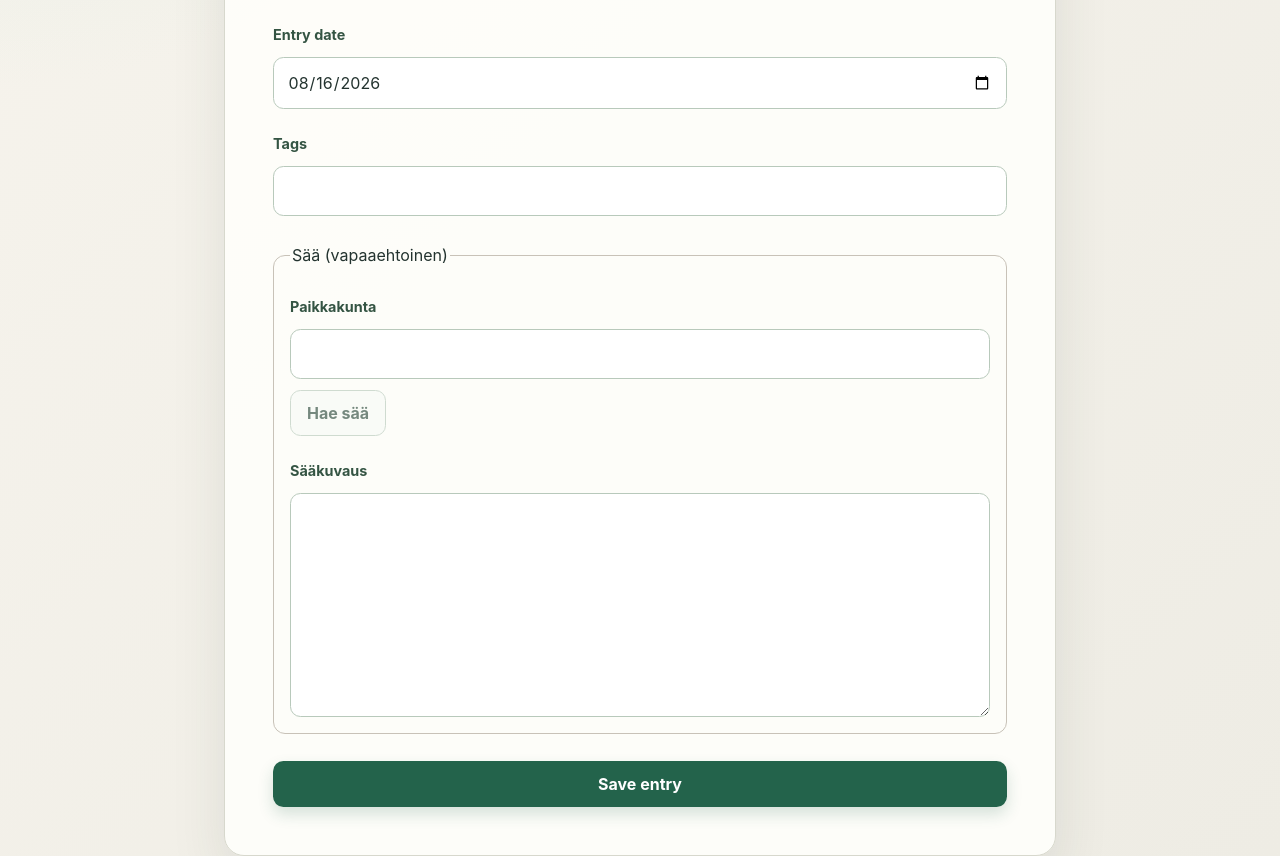
Scenario: NewEntryForm › associates a content validation error with the content field
This screenshot has width=1280, height=856.
(page scrolled)
Click the button "Save entry".
click(640, 784)  # box [273, 761, 1007, 807]
(page scrolled)
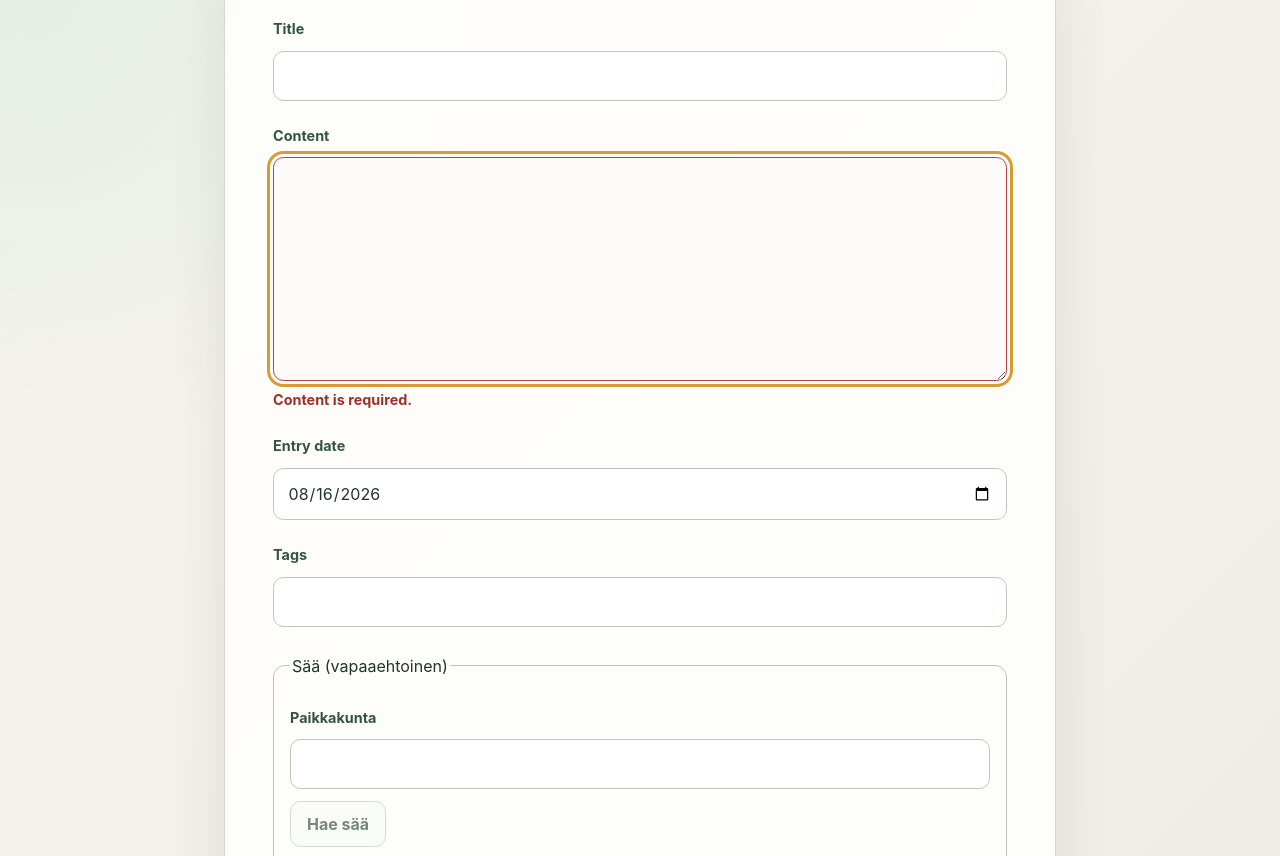
Now the message reads "Content is required.", box [273, 391, 412, 408]
